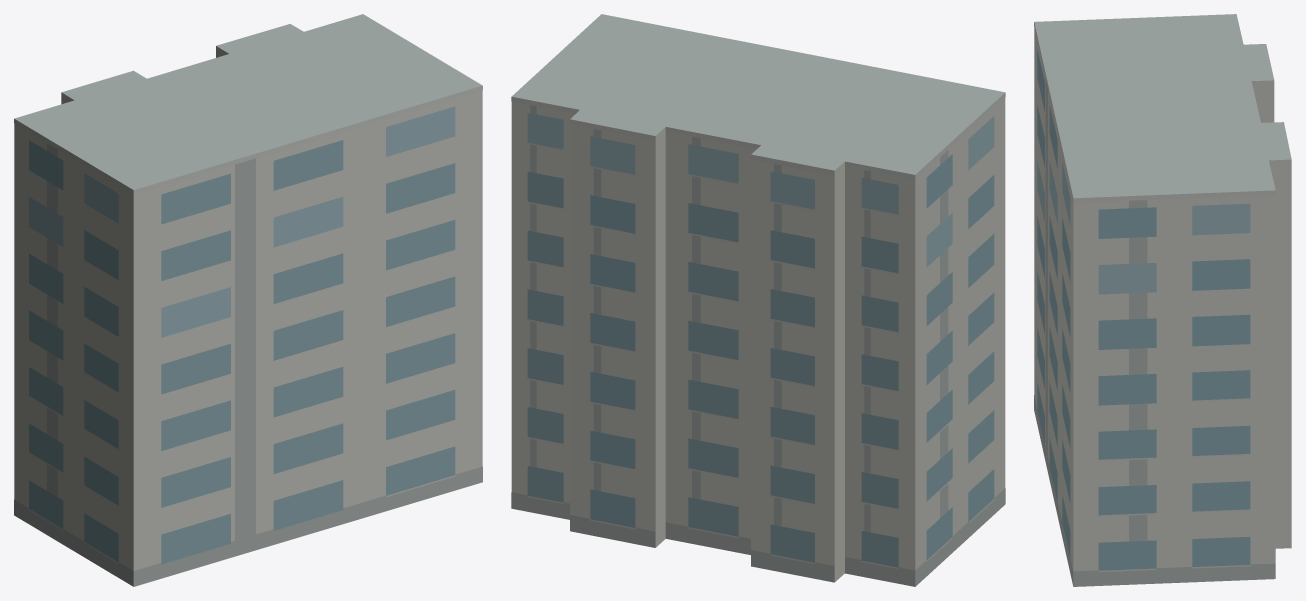
File: survey-upis-32699140.glb
The picture shows the model from 3 angles, left to right: view 1: azimuth 30°, elevation 25°; view 2: azimuth 150°, elevation 25°; view 3: azimuth 270°, elevation 25°; orthographic projection. The views are drawn at different scales.
Parts seen in each view (by area): view 1: survey-upis-32699140.tmp; view 2: survey-upis-32699140.tmp; view 3: survey-upis-32699140.tmp.
Boxes of the visible parts, x1,y1,x2,y2 form: survey-upis-32699140.tmp: (14, 14, 482, 586); survey-upis-32699140.tmp: (511, 14, 1005, 586); survey-upis-32699140.tmp: (1034, 14, 1291, 586).
Bounding box in the file's own units: 20.65 × 20.3 × 12.2.
